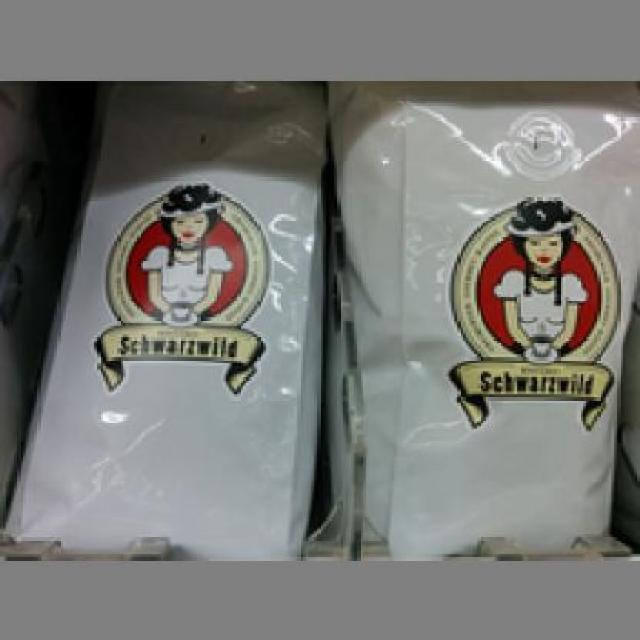Coffee: (3, 79, 326, 552), (320, 80, 637, 557)
